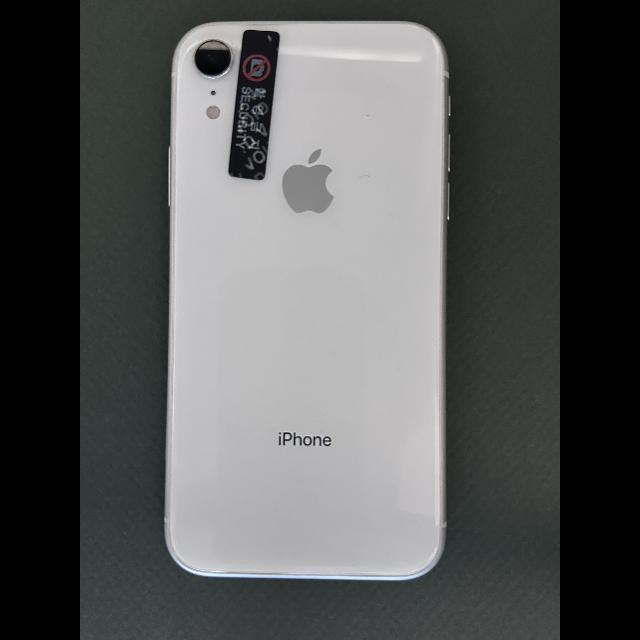lens: (193, 38, 233, 78)
phone: (164, 20, 449, 582)
sticker: (229, 30, 280, 180)
